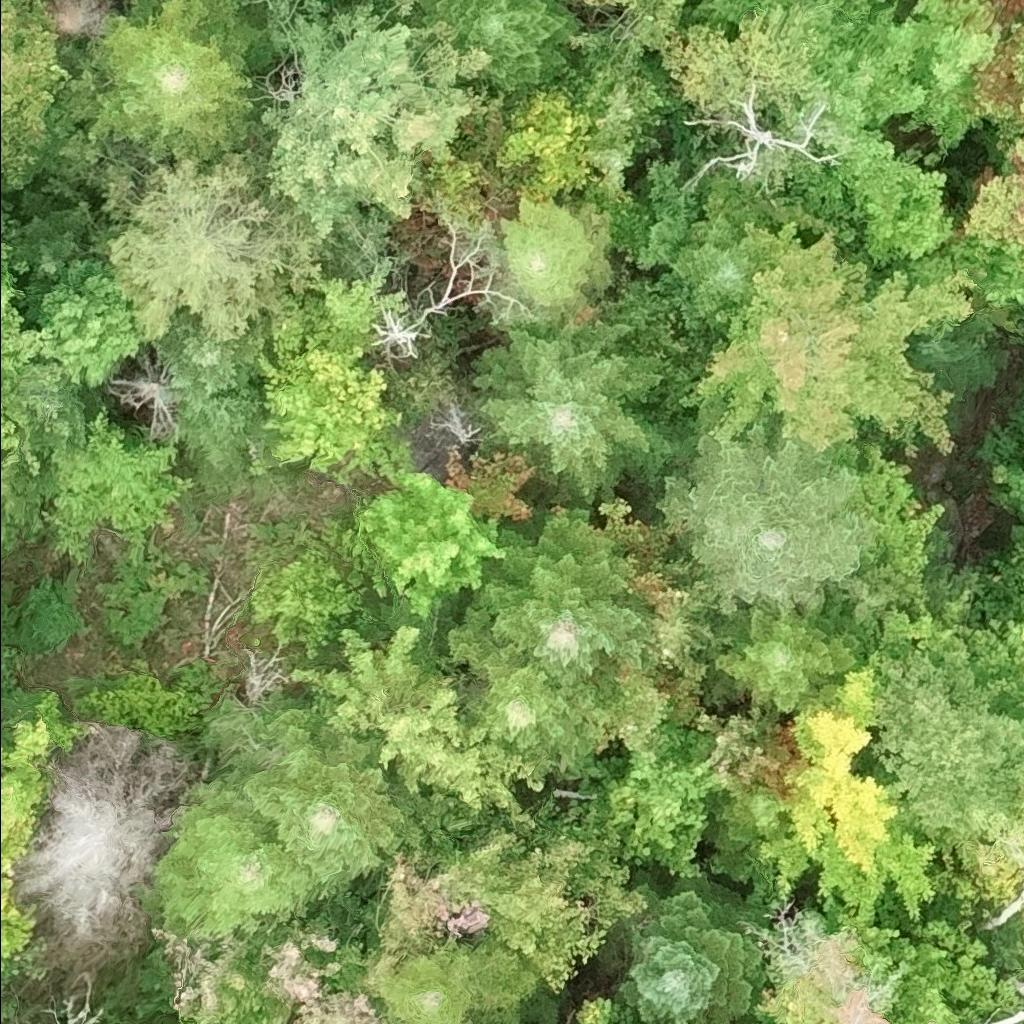crown: (676, 219, 978, 458), (691, 0, 955, 268), (230, 0, 505, 243), (288, 621, 553, 831), (206, 686, 434, 894), (758, 666, 937, 925), (87, 150, 320, 345), (654, 421, 884, 617), (12, 718, 197, 959), (467, 311, 697, 503), (439, 792, 649, 995), (859, 634, 1023, 874), (455, 495, 657, 689), (86, 0, 270, 172), (444, 604, 622, 771), (138, 773, 320, 936), (38, 404, 202, 570), (553, 31, 675, 254), (0, 690, 86, 997), (253, 331, 412, 484), (878, 0, 1023, 159), (618, 872, 770, 1023), (356, 474, 508, 620), (711, 590, 866, 716), (362, 842, 494, 976), (13, 256, 145, 388), (660, 195, 781, 337), (411, 0, 585, 93), (603, 748, 722, 882), (256, 909, 389, 1023), (883, 918, 1023, 1023), (0, 0, 74, 192), (500, 192, 612, 318), (149, 927, 294, 1023), (850, 438, 947, 569), (758, 928, 890, 1023), (495, 82, 599, 199), (587, 666, 711, 759), (910, 308, 1012, 414), (693, 697, 800, 798), (172, 382, 266, 488), (151, 315, 263, 403), (374, 933, 481, 1023), (471, 927, 558, 1023), (101, 343, 184, 442), (960, 128, 1023, 254), (637, 156, 700, 270), (0, 240, 41, 380), (966, 615, 1023, 714), (361, 298, 435, 362), (0, 645, 45, 736), (44, 972, 107, 1023), (51, 0, 124, 41), (573, 988, 642, 1023), (992, 440, 1023, 515), (559, 0, 646, 12), (981, 1005, 1023, 1023), (1016, 90, 1023, 128), (651, 1020, 672, 1023), (1020, 993, 1023, 997), (924, 1022, 933, 1023)
